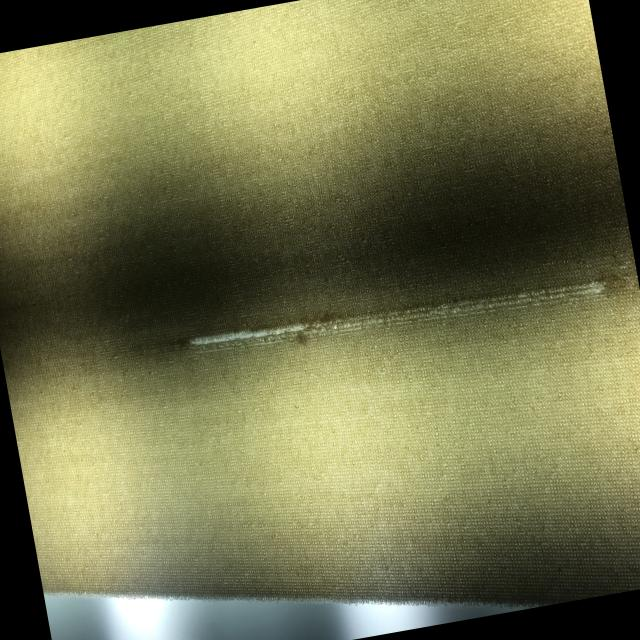Warp_Weft: (186, 262, 608, 366)
